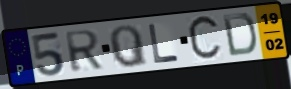5: (29, 30, 67, 78)
C: (186, 13, 224, 64)
D: (220, 12, 259, 58)
L: (146, 22, 181, 65)
Q: (107, 24, 150, 69)
R: (63, 29, 105, 75)
